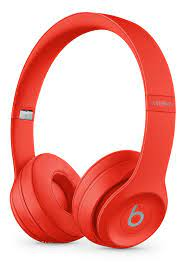headphone: (2, 11, 181, 256)
